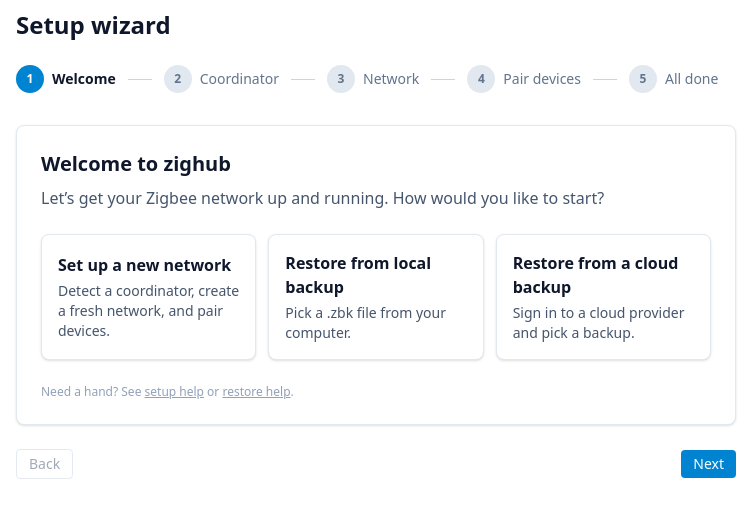
Test: WizardShell › Back returns to the previous step
Click the button "Set up a new network".
click(149, 297)  # box [41,234,256,360]
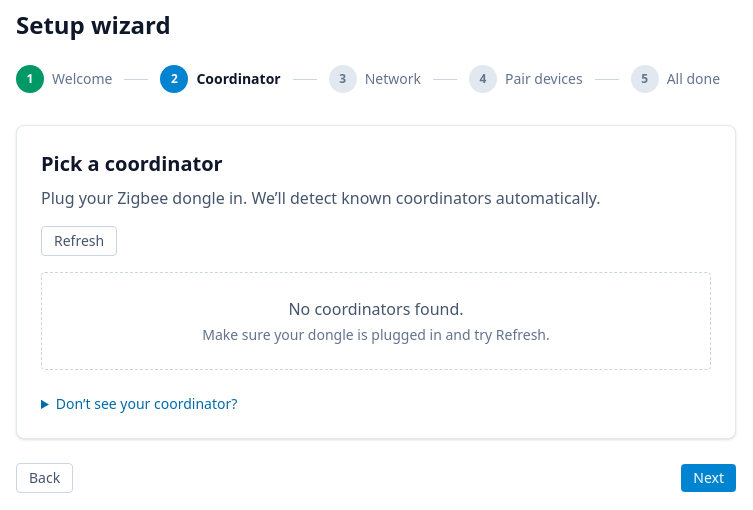
Click the button "Back".
click(45, 478)  # box [16,463,73,493]
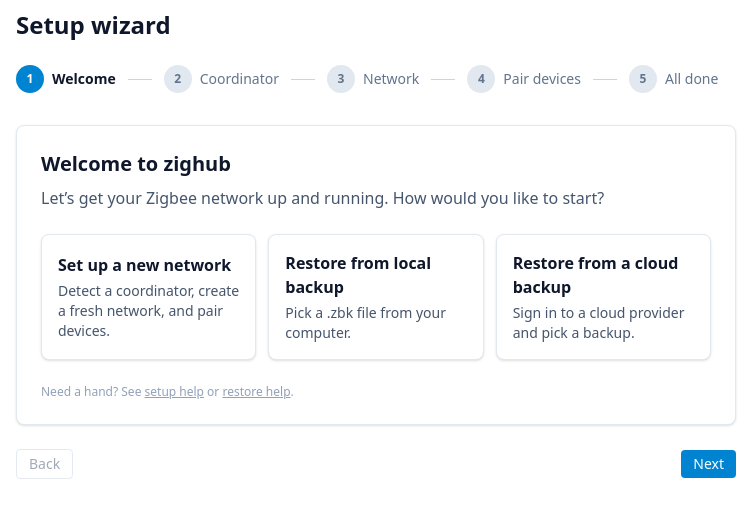
Now the heading "Welcome to zighub" is shown, box [41,150,231,177]
